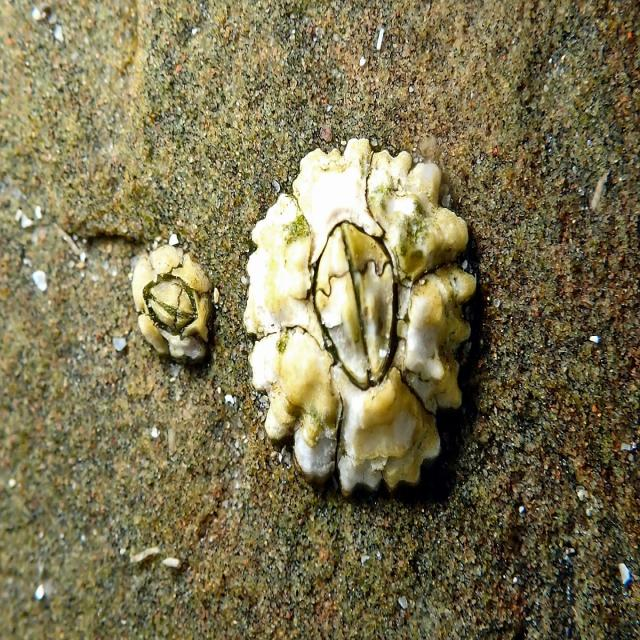barnacles: (242, 130, 478, 510), (122, 223, 218, 373)
